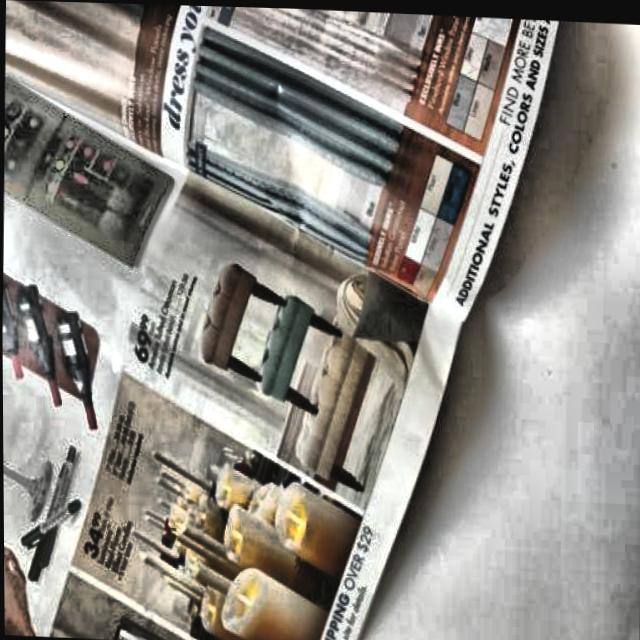Paper: (0, 0, 560, 640)
